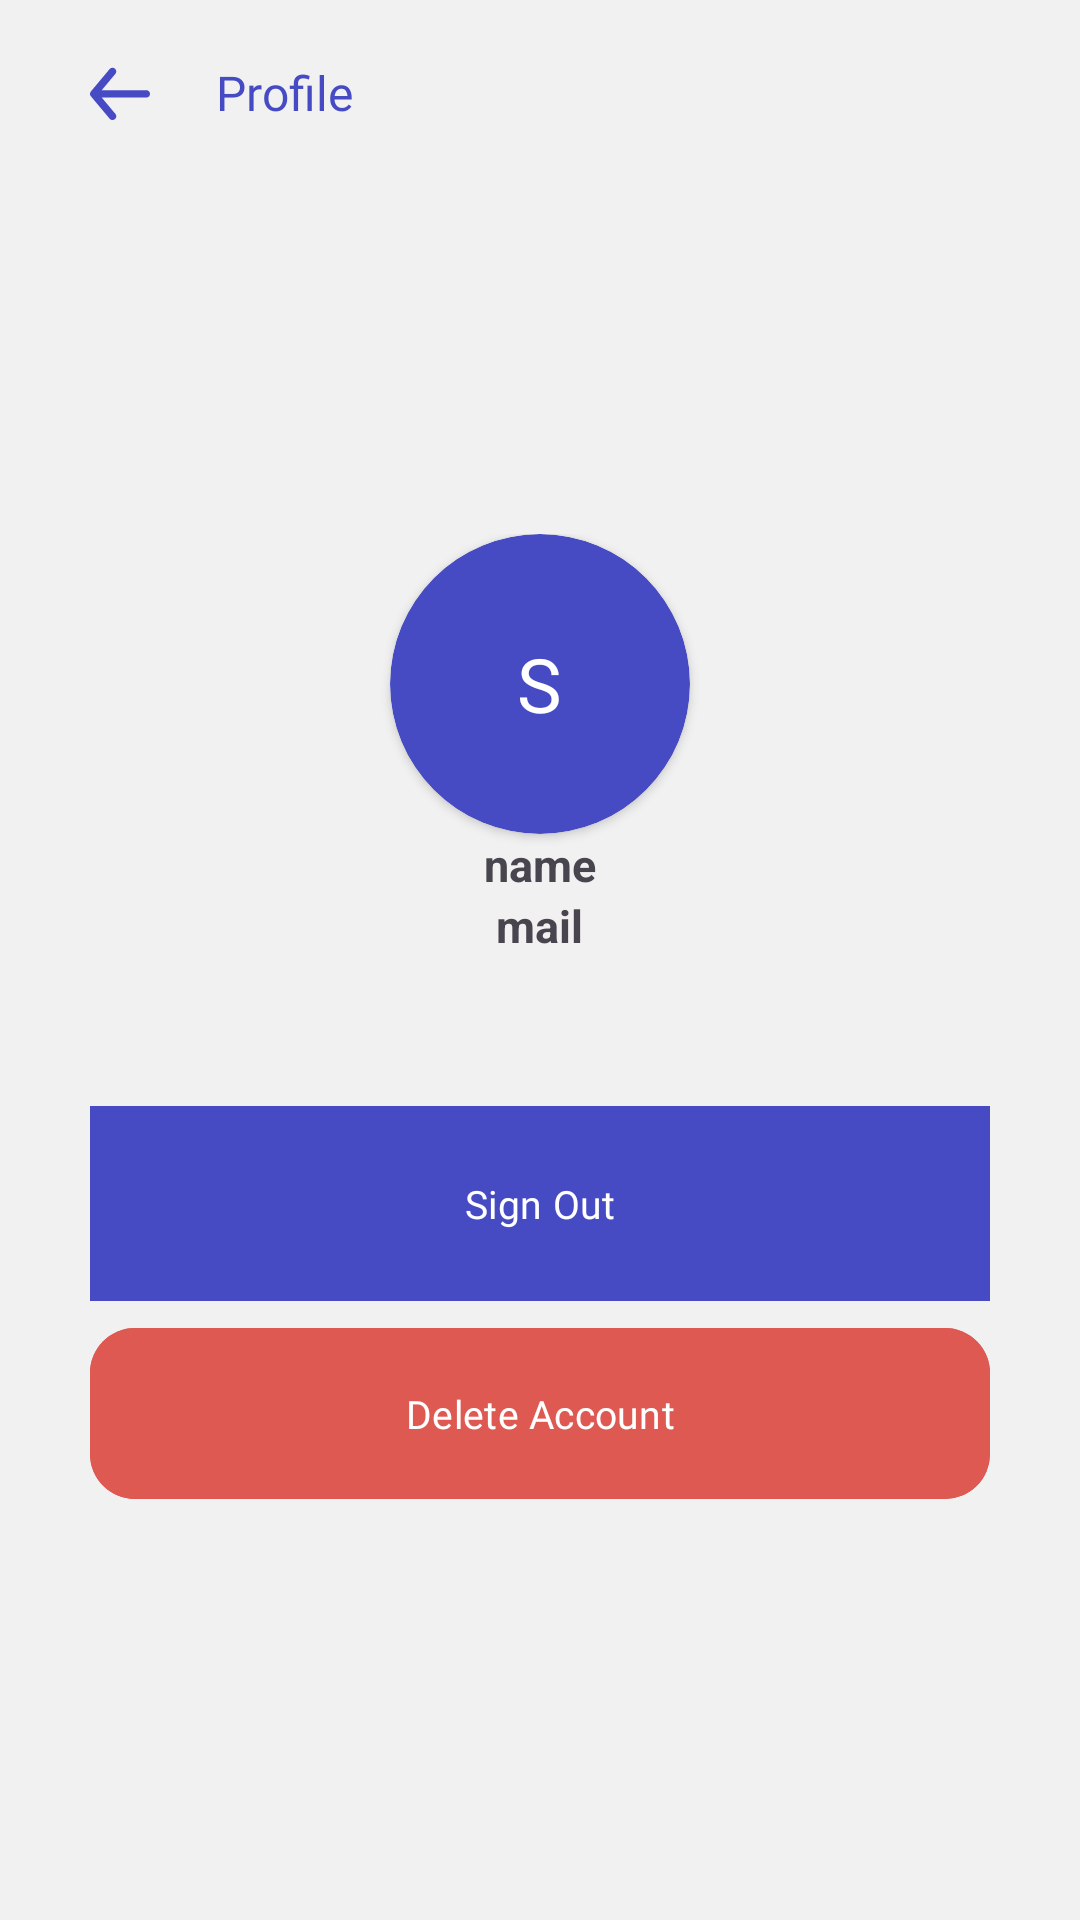

Where icons sit on this 1080*1920 app screen, as box=[x1, y1, x2, y2]:
back arrow: box=[90, 67, 150, 120]
